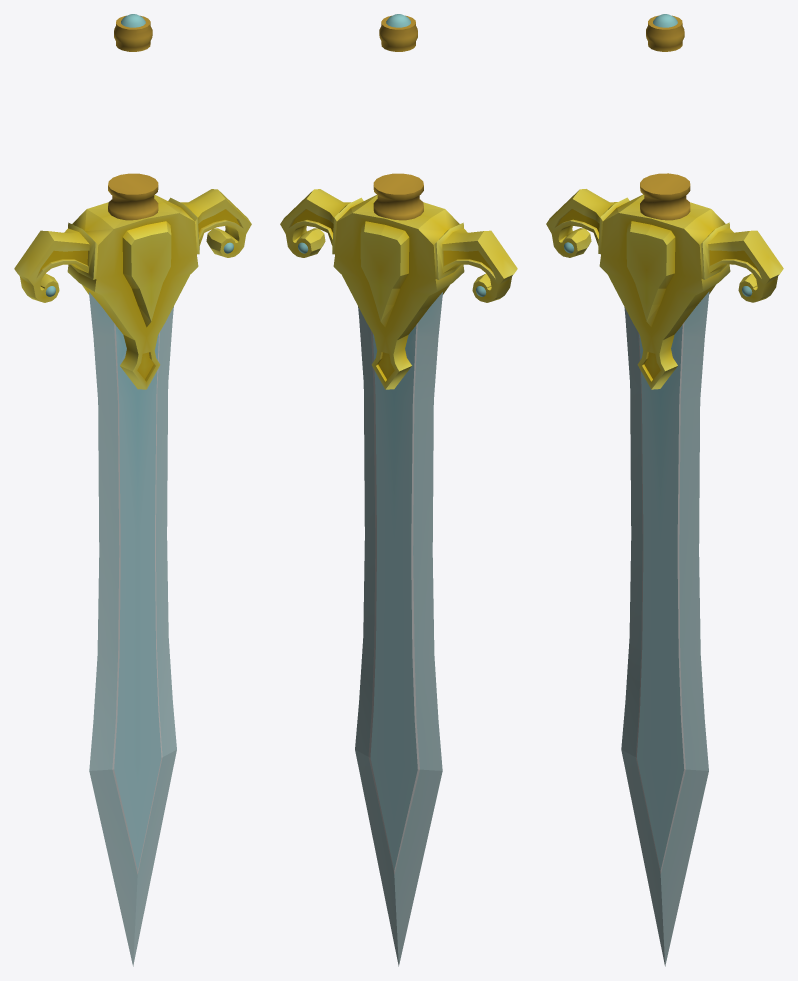
Rendered from Sword.FBX.
3 views of the same model, side by side, from view 1: azimuth 30°, elevation 25°; view 2: azimuth 150°, elevation 25°; view 3: azimuth 330°, elevation 25° (orthographic).
Parts seen in each view (by area): view 1: Sword_Fantasy; view 2: Sword_Fantasy; view 3: Sword_Fantasy.
Boxes of the visible parts, left/top/right/bottom form: Sword_Fantasy: left=14, top=14, right=251, bottom=966; Sword_Fantasy: left=280, top=14, right=517, bottom=966; Sword_Fantasy: left=546, top=14, right=783, bottom=966.
Size of the model in its own units: 46.44 by 12.85 by 184.
